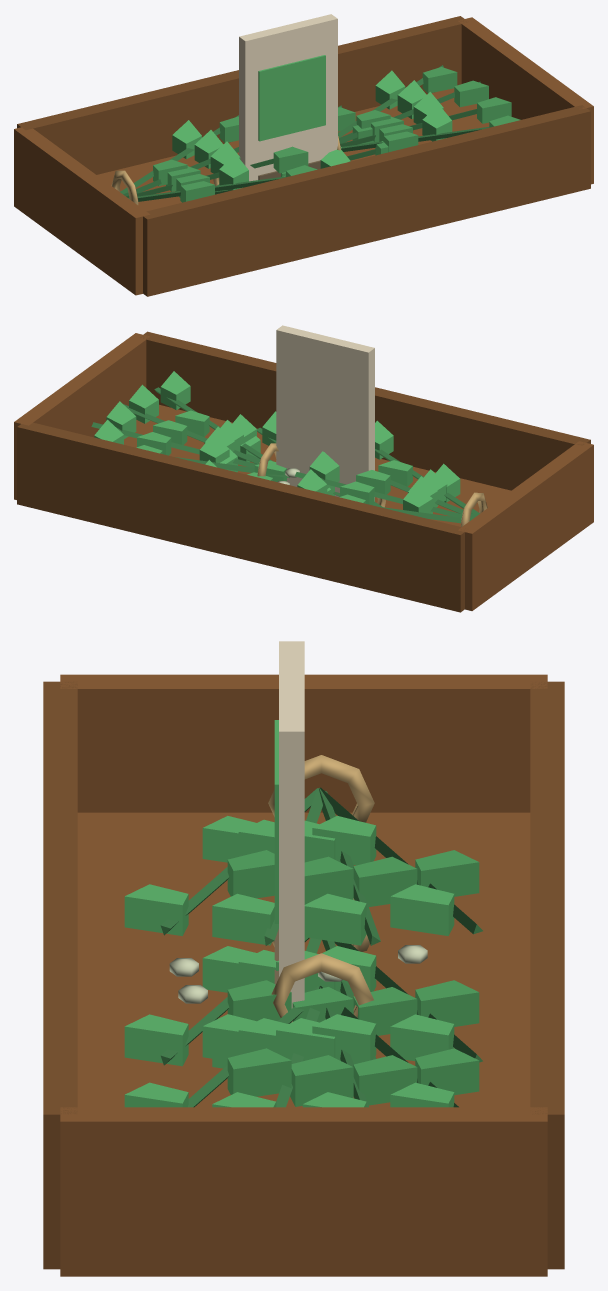
Rendered from Crop_Mint.fbx.
3 renders of one model, top to bottom at view 1: azimuth 30°, elevation 25°; view 2: azimuth 150°, elevation 25°; view 3: azimuth 270°, elevation 25°, orthographic. The views are drawn at different scales.
Visible parts, largest first — view 1: Crop_Mint__Stack, Crop_Mint__Seed, Crop_Mint; view 2: Crop_Mint__Stack, Crop_Mint__Seed, Crop_Mint; view 3: Crop_Mint__Stack, Crop_Mint, Crop_Mint__Seed, Crop_Mint__Rotten.
Part boxes in pixels (x1=…): Crop_Mint__Stack: x1=14, y1=16, x2=593, y2=296; Crop_Mint__Seed: x1=239, y1=14, x2=337, y2=181; Crop_Mint: x1=213, y1=105, x2=388, y2=194; Crop_Mint__Stack: x1=14, y1=331, x2=593, y2=612; Crop_Mint__Seed: x1=276, y1=325, x2=374, y2=501; Crop_Mint: x1=205, y1=411, x2=385, y2=507; Crop_Mint__Stack: x1=43, y1=674, x2=564, y2=1276; Crop_Mint: x1=124, y1=898, x2=482, y2=1068; Crop_Mint__Seed: x1=274, y1=641, x2=304, y2=1008; Crop_Mint__Rotten: x1=169, y1=945, x2=427, y2=1003.
Bounding box in the file's own units: 0.2479 × 0.09 × 0.1221.
